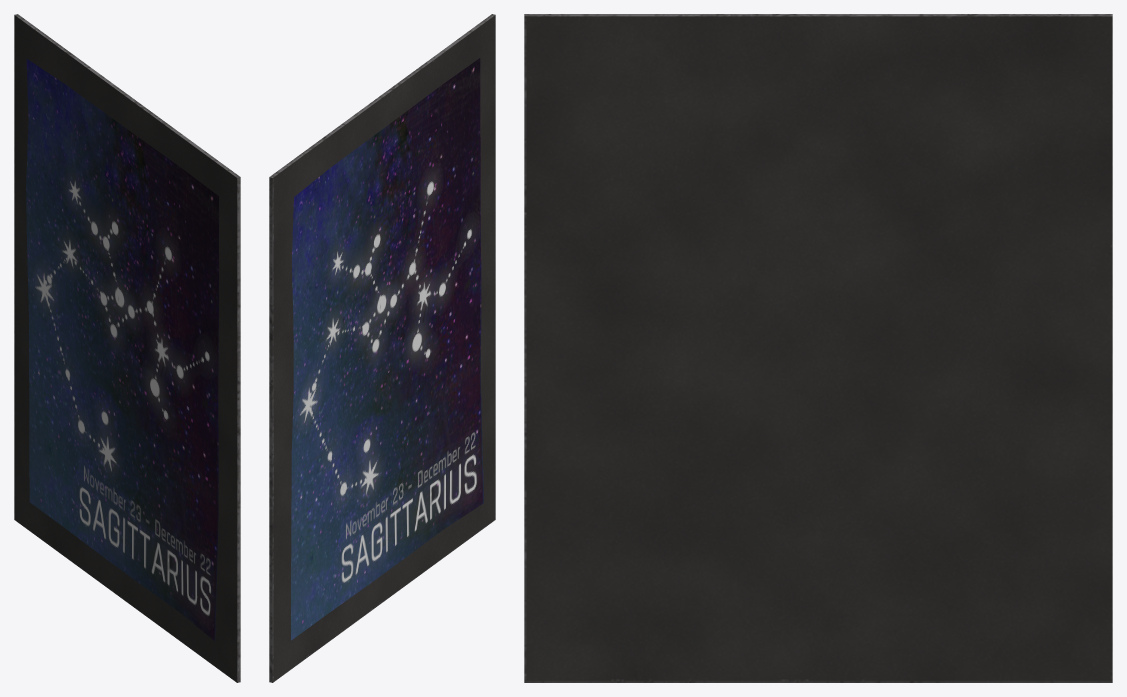
The model's file is SM_Wall_Constellations_01d.fbx.
3 renders of one model, left to right at view 1: azimuth 30°, elevation 25°; view 2: azimuth 150°, elevation 25°; view 3: azimuth 270°, elevation 25°, orthographic. The views are drawn at different scales.
Visible parts, largest first — view 1: SM_Wall_Constellations_01d_LOD0; view 2: SM_Wall_Constellations_01d_LOD0; view 3: SM_Wall_Constellations_01d_LOD0.
Boxes of the visible parts, x1=… form: SM_Wall_Constellations_01d_LOD0: x1=14, y1=14, x2=240, y2=682; SM_Wall_Constellations_01d_LOD0: x1=269, y1=14, x2=495, y2=682; SM_Wall_Constellations_01d_LOD0: x1=524, y1=14, x2=1112, y2=682.
Size of the model in its own units: 0.904 by 40 by 50.
Materials: 1 (1 with a texture image).
